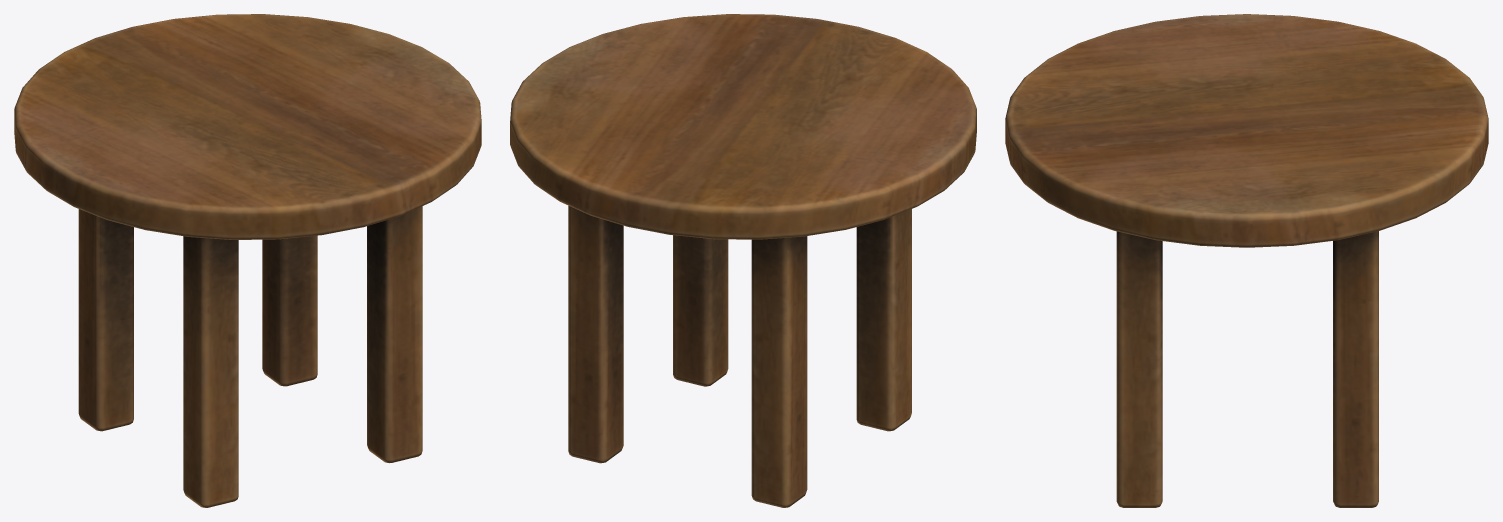
File: SM_Table.fbx
The picture shows the model from 3 angles, left to right: view 1: azimuth 30°, elevation 25°; view 2: azimuth 150°, elevation 25°; view 3: azimuth 270°, elevation 25°; orthographic projection. The views are drawn at different scales.
Parts seen in each view (by area): view 1: SM_Table; view 2: SM_Table; view 3: SM_Table.
Part boxes in pixels (box(x1,y1,x2,y2)): SM_Table: box(14, 14, 481, 507); SM_Table: box(510, 14, 976, 507); SM_Table: box(1005, 14, 1488, 507).
Size of the model in its own units: 153 by 118 by 153.
Materials: 1 (1 with a texture image).
